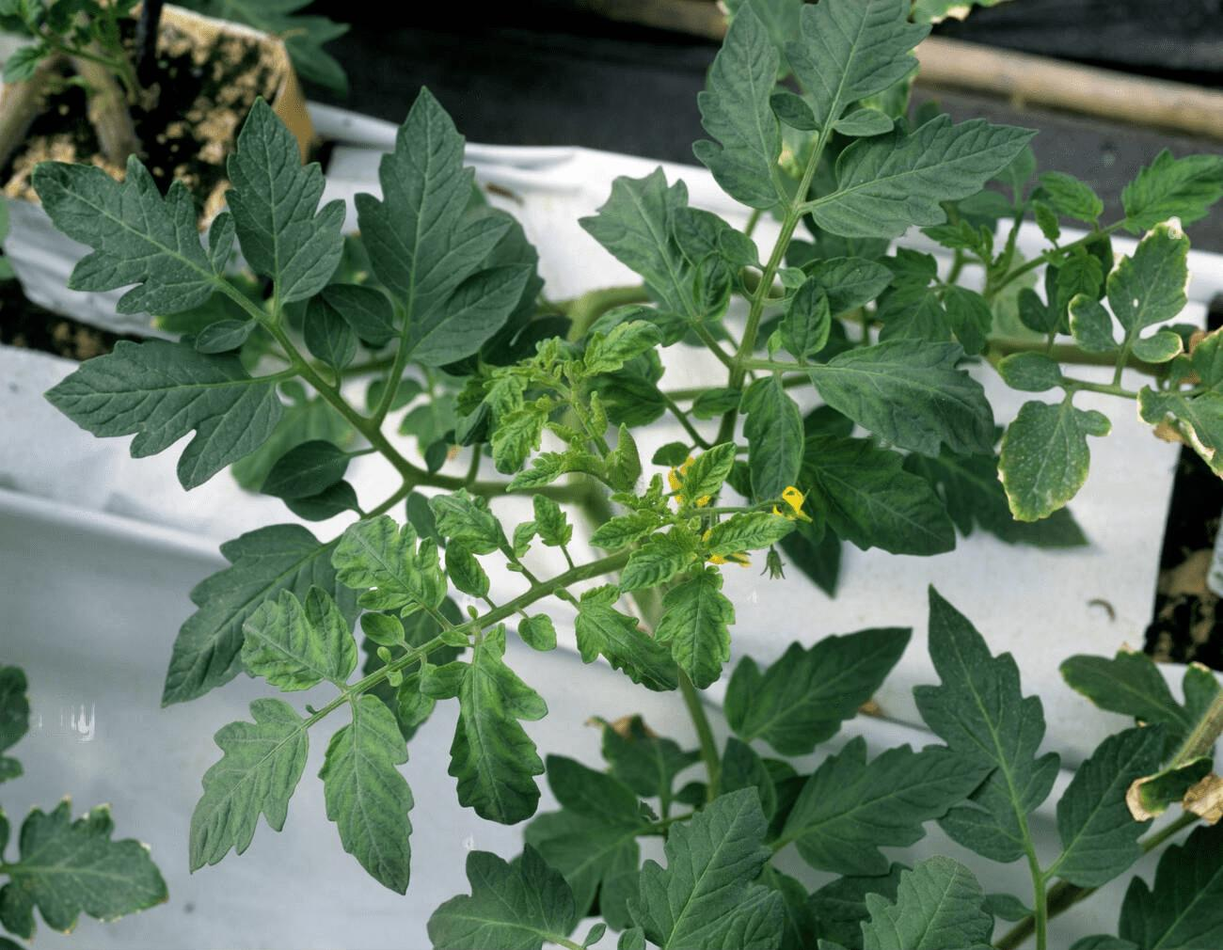Healthy: (352, 80, 534, 371), (911, 578, 1062, 865), (39, 332, 285, 493), (159, 519, 365, 710), (33, 152, 234, 320), (785, 730, 998, 880), (622, 783, 788, 950), (224, 92, 348, 308), (721, 622, 914, 757), (1051, 717, 1167, 888), (426, 839, 579, 950), (1119, 811, 1223, 950), (858, 853, 995, 950), (260, 439, 349, 502), (317, 282, 395, 348), (303, 296, 362, 373)
Yellow Leaf Curl Virus: (805, 111, 1047, 241), (417, 629, 552, 828), (808, 335, 999, 462), (766, 0, 934, 136), (186, 696, 312, 877), (573, 161, 719, 317), (684, 0, 789, 208), (314, 693, 416, 897), (801, 433, 960, 560), (238, 586, 361, 694), (330, 512, 448, 618), (574, 580, 679, 693), (736, 374, 812, 513), (659, 560, 737, 693), (1119, 143, 1223, 237), (503, 437, 603, 499), (618, 523, 699, 593), (427, 486, 505, 554), (775, 273, 833, 357), (707, 509, 800, 558), (586, 320, 664, 377), (1040, 166, 1108, 229), (677, 438, 738, 506), (490, 400, 543, 477), (588, 507, 663, 549), (529, 493, 577, 552), (445, 545, 491, 600)
